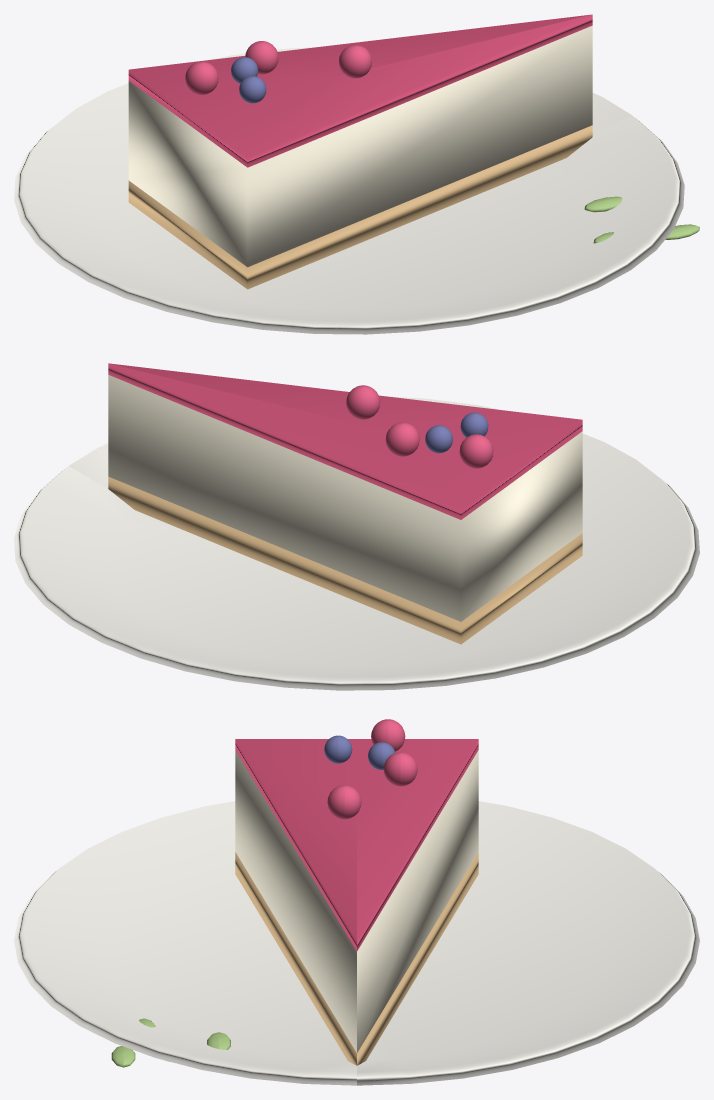
File: baked-cheesecake.glb
3 renders of one model, top to bottom at view 1: azimuth 30°, elevation 25°; view 2: azimuth 150°, elevation 25°; view 3: azimuth 270°, elevation 25°, orthographic. The views are drawn at different scales.
Parts seen in each view (by area): view 1: baked-cheesecake; view 2: baked-cheesecake; view 3: baked-cheesecake.
Boxes of the visible parts, x1,y1,x2,y2 form: baked-cheesecake: (14, 14, 699, 334); baked-cheesecake: (14, 363, 699, 690); baked-cheesecake: (14, 719, 699, 1085).
Size of the model in its own units: 0.22 by 0.0655 by 0.22.
